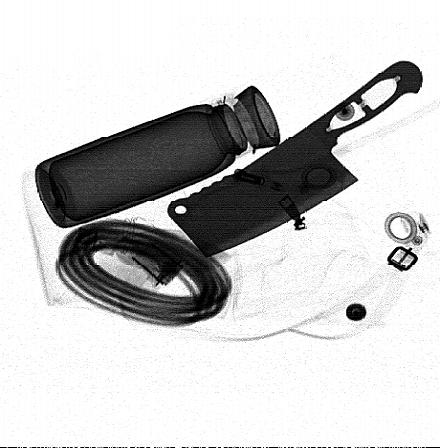Knife: (165, 60, 423, 259)
